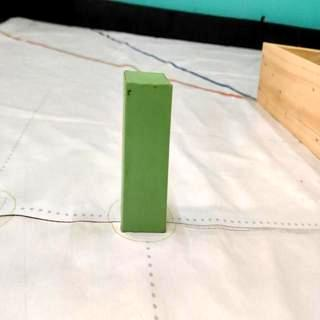greenbox: (122, 68, 174, 232)
